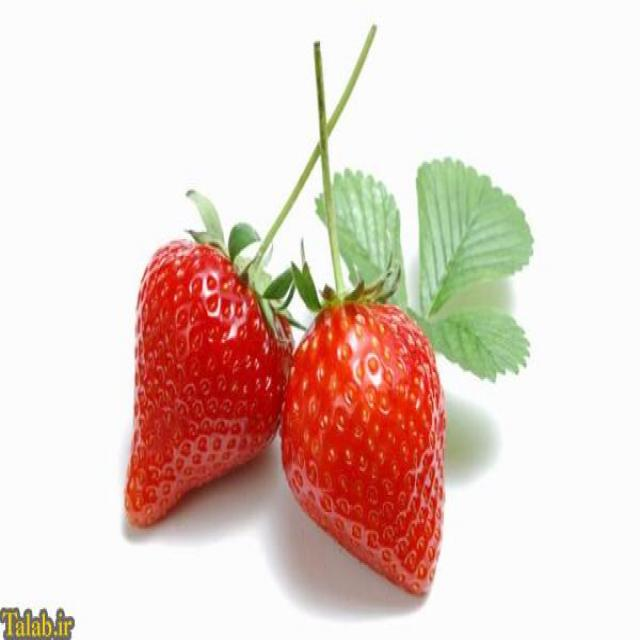strawberry: (112, 223, 293, 538), (283, 283, 447, 604)
